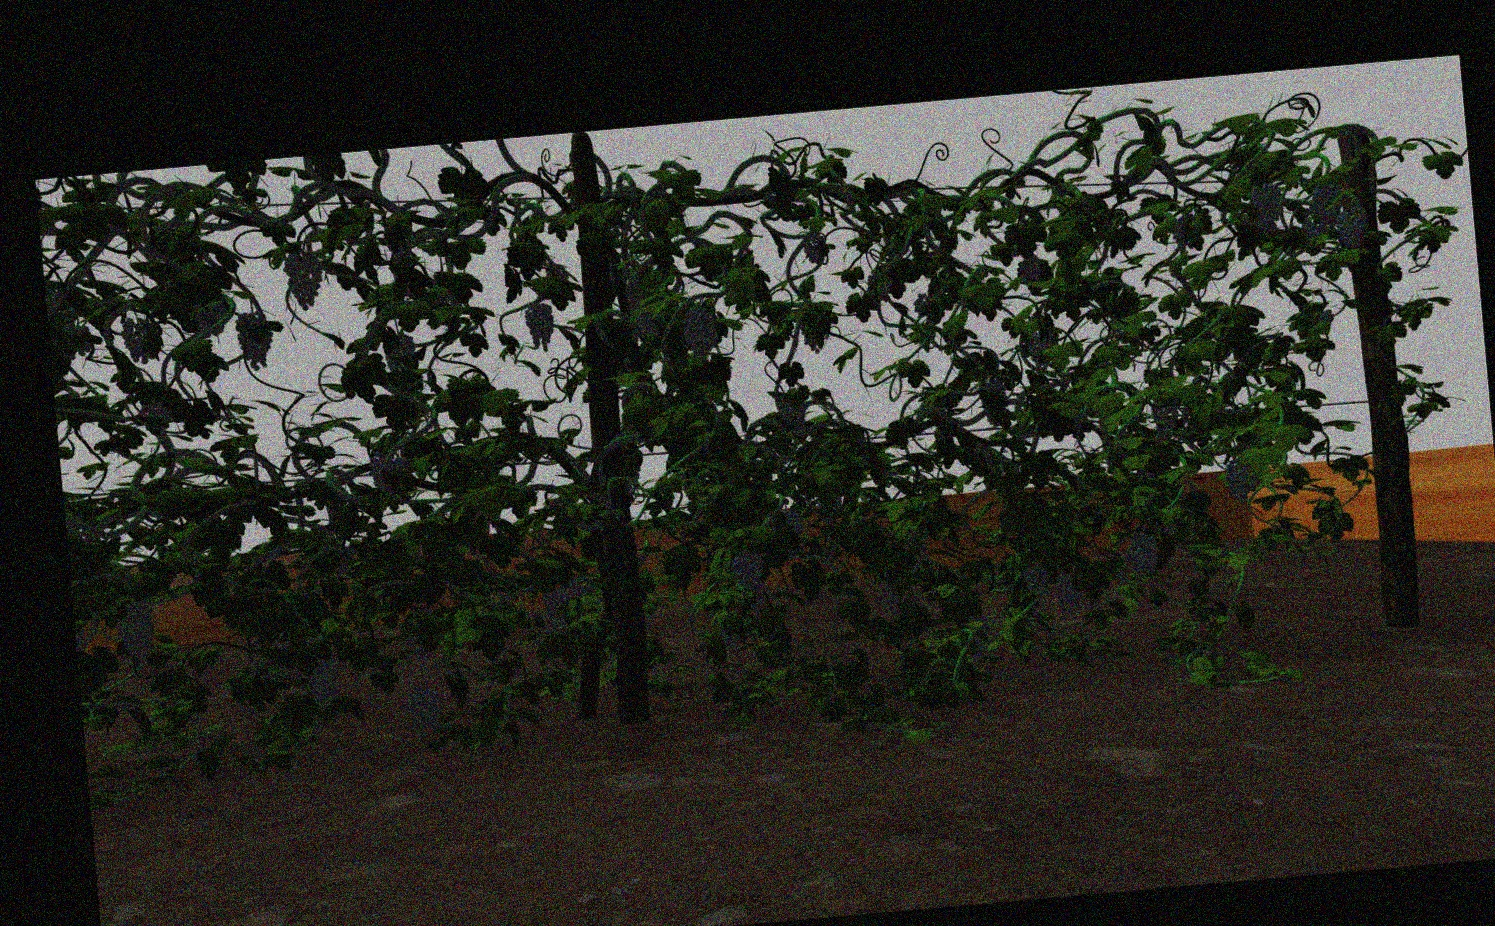grape: (115, 600, 156, 664), (283, 249, 324, 310), (236, 310, 273, 371), (306, 654, 342, 709), (405, 685, 442, 737), (683, 308, 717, 362), (368, 450, 409, 492), (121, 315, 156, 364), (524, 301, 555, 352), (1127, 529, 1159, 578), (1252, 182, 1281, 233), (1310, 181, 1343, 226), (1337, 203, 1368, 250), (731, 548, 766, 588), (1225, 459, 1254, 503), (193, 301, 227, 338), (778, 392, 809, 431), (1055, 574, 1082, 615), (1026, 330, 1053, 368), (542, 587, 569, 626), (882, 582, 908, 614), (1025, 562, 1048, 597), (566, 574, 594, 601), (1019, 256, 1043, 284), (804, 233, 827, 263), (638, 309, 658, 336), (913, 291, 937, 311)
